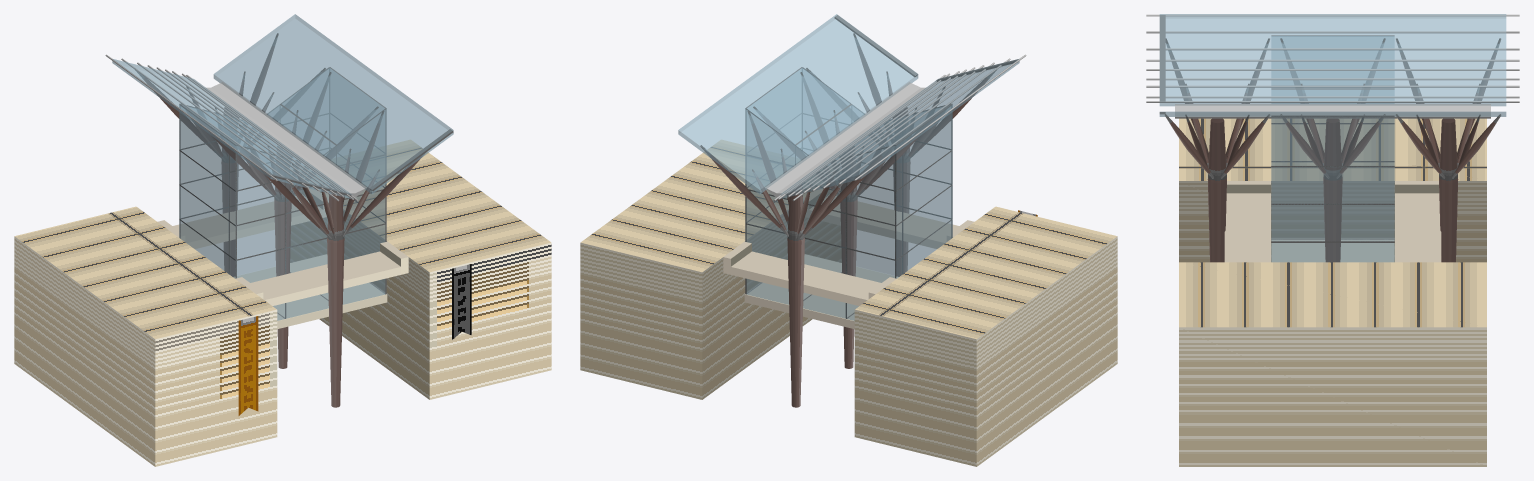
Rendered from scientia.glb.
3 renders of one model, left to right at view 1: azimuth 30°, elevation 25°; view 2: azimuth 150°, elevation 25°; view 3: azimuth 270°, elevation 25°, orthographic. The views are drawn at different scales.
Visible parts, largest first — view 1: right.001, right, base-ceiling, base, bridge.front, base.texture, bridge.back, bridge-mid, base-ceiling-mid, Cylinder, Cylinder.001, Plane.001 (+6 smaller); view 2: right.001, right, base-ceiling, base, bridge.back, base.texture, bridge.front, Cylinder.016, base-ceiling-mid, bridge-mid, Cylinder.017, Cylinder.003 (+4 smaller); view 3: right, base-ceiling, base, right.001, base-ceiling-mid, bridge.front, bridge.back, Cylinder, Cylinder.016, Cylinder.003, bridge-mid, base.texture (+16 smaller).
Boxes of the visible parts, x1,y1,x2,y2 form: right.001: [14, 206, 277, 466]; right: [290, 140, 551, 399]; base-ceiling: [112, 14, 453, 198]; base: [179, 68, 386, 320]; bridge.front: [235, 241, 408, 305]; base.texture: [179, 67, 386, 318]; bridge.back: [157, 188, 328, 248]; bridge-mid: [233, 254, 387, 328]; base-ceiling-mid: [199, 82, 366, 197]; Cylinder: [327, 184, 344, 407]; Cylinder.001: [241, 110, 424, 238]; Plane.001: [238, 316, 258, 415]; right.001: [854, 206, 1117, 466]; right: [580, 140, 841, 399]; base-ceiling: [678, 14, 1019, 198]; base: [745, 68, 952, 320]; bridge.back: [723, 241, 896, 305]; base.texture: [745, 67, 952, 318]; bridge.front: [803, 188, 974, 248]; Cylinder.016: [787, 184, 804, 407]; base-ceiling-mid: [765, 82, 932, 197]; bridge-mid: [744, 254, 898, 328]; Cylinder.017: [700, 110, 890, 238]; Cylinder.003: [840, 146, 857, 368]; right: [1179, 262, 1486, 466]; base-ceiling: [1159, 14, 1506, 116]; base: [1271, 36, 1394, 262]; right.001: [1179, 118, 1486, 262]; base-ceiling-mid: [1175, 104, 1490, 118]; bridge.front: [1224, 181, 1270, 262]; bridge.back: [1395, 181, 1441, 262]; Cylinder: [1207, 118, 1226, 262]; Cylinder.016: [1439, 118, 1458, 262]; Cylinder.003: [1323, 118, 1342, 262]; bridge-mid: [1271, 240, 1394, 261]; base.texture: [1271, 35, 1394, 242].
Size of the model in its own units: 13 by 8.55 by 9.7.
Materials: 12 (9 with a texture image).
